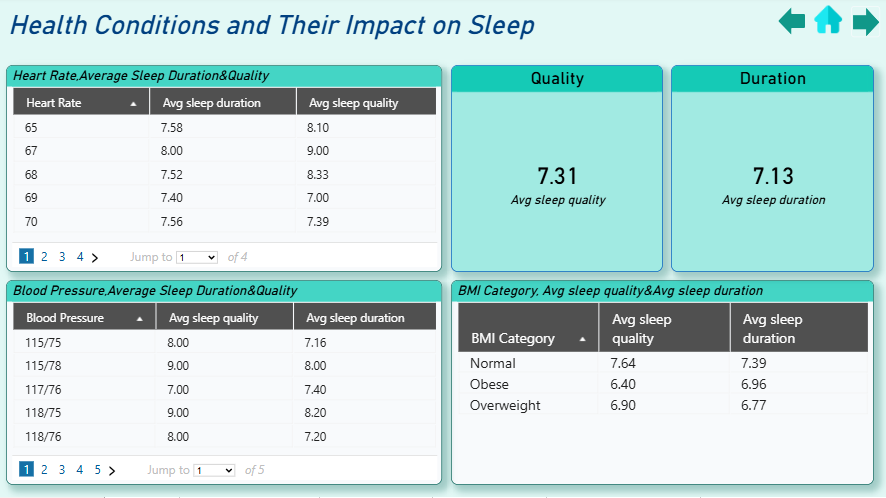

What the dashboard file says about the page in this screenshot:
{"tool":"powerbi","page":{"name":"HEALTH CONDITION","canvas":[1280,720],"ordinal":4},"visuals":[{"type":"PBI_CV_309E6B47_39A5_4681_808F_132AFB230860","title":"BMI Category, Avg sleep quality&Avg sleep duration","fields":{"Values":["Sleep_health_and_lifestyle_data.BMI Category","Measure Table.Avg sleep quality","Measure Table.Avg sleep duration"]},"box":[652.3,407.5,609.1,295.2],"z":0},{"type":"PBI_CV_309E6B47_39A5_4681_808F_132AFB230860","title":"Heart Rate,Average Sleep Duration&Quality","fields":{"Values":["Sleep_health_and_lifestyle_data.Heart Rate","Measure Table.Avg sleep duration","Measure Table.Avg sleep quality"]},"box":[11.5,97.9,627.8,298.1],"z":1000},{"type":"PBI_CV_309E6B47_39A5_4681_808F_132AFB230860","title":"Blood Pressure,Average Sleep Duration&Quality","fields":{"Values":["Sleep_health_and_lifestyle_data.Blood Pressure","Measure Table.Avg sleep quality","Measure Table.Avg sleep duration"]},"box":[11.5,407.5,627.8,295.2],"z":2000},{"type":"textbox","box":[0,13,820.8,54.7],"z":3000},{"type":"card","title":"Quality","fields":{"Values":["Measure Table.Avg sleep quality"]},"box":[652.3,97.9,305.3,298.1],"z":4000},{"type":"card","title":"Duration","fields":{"Values":["Measure Table.Avg sleep duration"]},"box":[969.1,97.9,292.3,298.1],"z":5000},{"type":"shape","box":[1123.2,14.4,38.9,40.3],"z":6000},{"type":"image","box":[1163.5,7.2,64.8,50.4],"z":7000},{"type":"shape","box":[1228.3,13,41.8,44.6],"z":8000}]}

Visuals, with their boxes in screenshot pixels (x1, y1, x2, y2), scaled from the page's 1280x720 canvas onto the 886x498 screenshot:
"BMI Category, Avg sleep quality&Avg sleep duration" PBI_CV_309E6B47_39A5_4681_808F_132AFB230860: box=[452, 282, 873, 486]
"Heart Rate,Average Sleep Duration&Quality" PBI_CV_309E6B47_39A5_4681_808F_132AFB230860: box=[8, 68, 443, 274]
"Blood Pressure,Average Sleep Duration&Quality" PBI_CV_309E6B47_39A5_4681_808F_132AFB230860: box=[8, 282, 443, 486]
textbox: box=[0, 9, 568, 47]
"Quality" card: box=[452, 68, 663, 274]
"Duration" card: box=[671, 68, 873, 274]
shape: box=[777, 10, 804, 38]
image: box=[805, 5, 850, 40]
shape: box=[850, 9, 879, 40]
